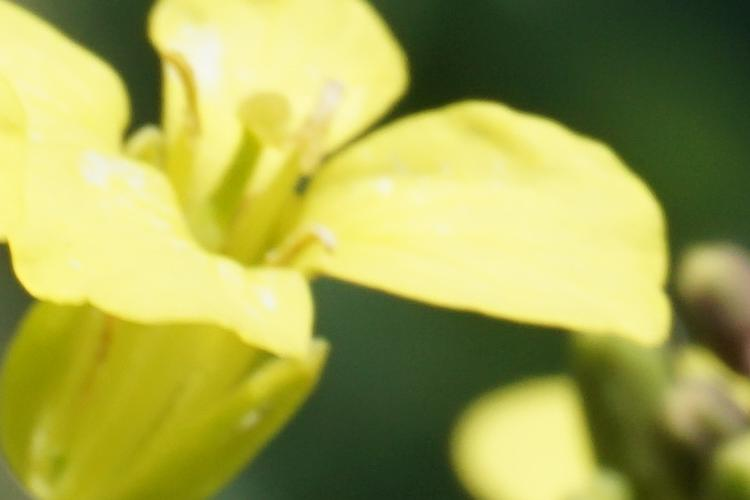yellow: (5, 14, 668, 386)
